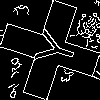Y: (25, 25, 79, 71)
